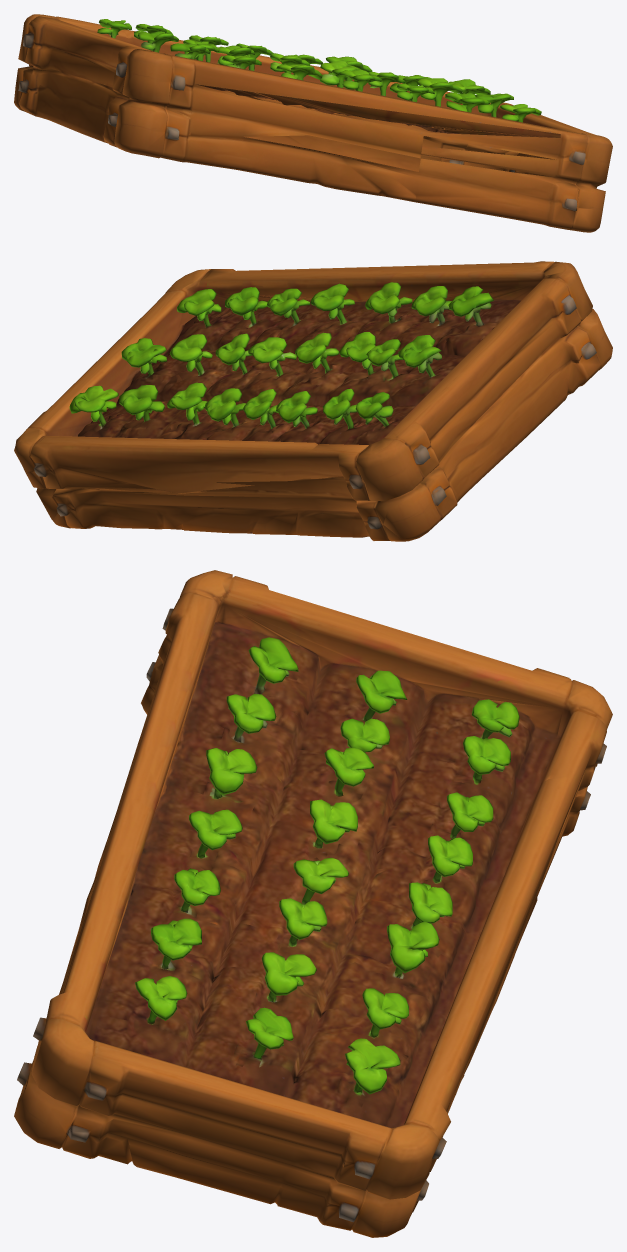
File: seed_tray.glb
3 views of the same model, one above another, from view 1: azimuth 30°, elevation 25°; view 2: azimuth 150°, elevation 25°; view 3: azimuth 270°, elevation 25° (orthographic). The views are drawn at different scales.
Parts seen in each view (by area): view 1: tripo_node_3825a33e-9b2b-4114-8cb0-5815e3628a67; view 2: tripo_node_3825a33e-9b2b-4114-8cb0-5815e3628a67; view 3: tripo_node_3825a33e-9b2b-4114-8cb0-5815e3628a67.
Part boxes in pixels (x1,y1,x2,y2): tripo_node_3825a33e-9b2b-4114-8cb0-5815e3628a67: [14, 14, 612, 232]; tripo_node_3825a33e-9b2b-4114-8cb0-5815e3628a67: [14, 261, 612, 541]; tripo_node_3825a33e-9b2b-4114-8cb0-5815e3628a67: [14, 570, 612, 1237].
Bounding box in the file's own units: 0.9789 × 0.569 × 0.7873.
Materials: 1 (1 with a texture image).
